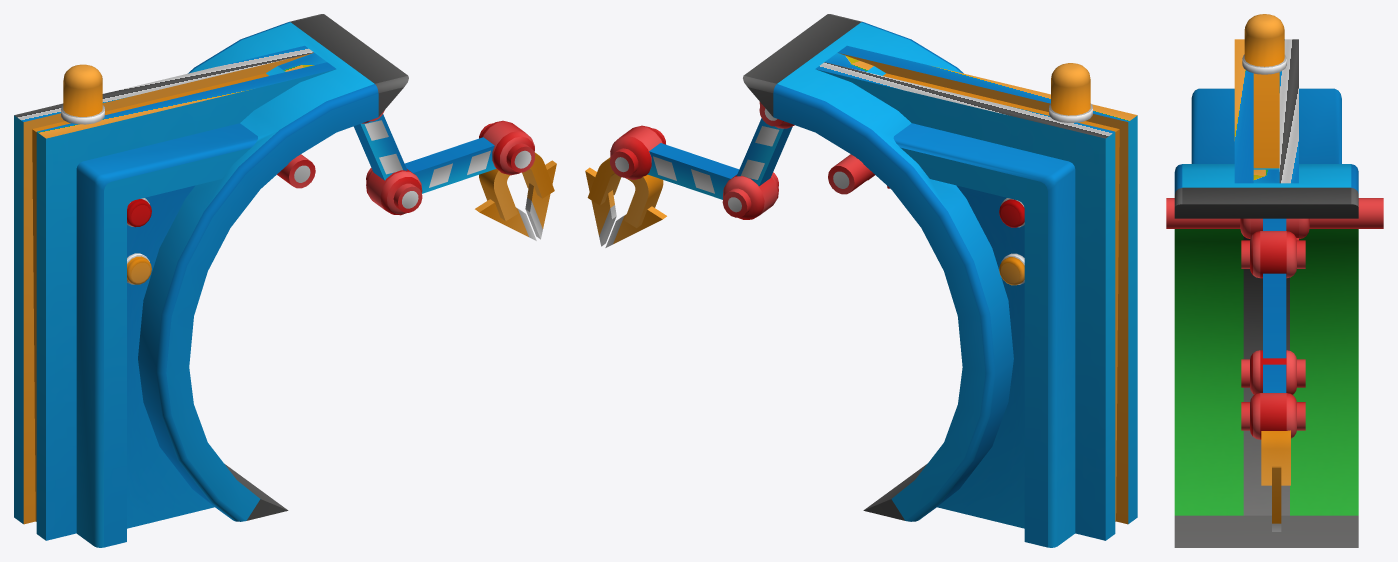
File: robot_arm_new_rig.fbx
The picture shows the model from 3 angles, left to right: view 1: azimuth 30°, elevation 25°; view 2: azimuth 150°, elevation 25°; view 3: azimuth 270°, elevation 25°; orthographic projection.
Parts seen in each view (by area): view 1: baby_boss_yeni_robot_kol, Bone003, baby_boss_yeni_robot_kol_yuvarlak1, baby_boss_yeni_robot_kol_kutu, Bone002, baby_boss_yeni_robot_kol_kıskac1, bone_end_controller, baby_boss_yeni_robot_kol_kıskac2; view 2: baby_boss_yeni_robot_kol, Bone003, baby_boss_yeni_robot_kol_yuvarlak1, baby_boss_yeni_robot_kol_kutu, Bone002, bone_end_controller, baby_boss_yeni_robot_kol_kıskac1, baby_boss_yeni_robot_kol_kıskac2; view 3: baby_boss_yeni_robot_kol, baby_boss_yeni_robot_kol_yuvarlak1, bone_end_controller, Bone001, baby_boss_yeni_robot_kol_kutu, Bone003, Bone002, baby_boss_yeni_robot_kol_kıskac1.
Part boxes in pixels (bbox=[...]): baby_boss_yeni_robot_kol: bbox=[14, 14, 408, 547]; Bone003: bbox=[366, 137, 496, 215]; baby_boss_yeni_robot_kol_yuvarlak1: bbox=[479, 120, 554, 221]; baby_boss_yeni_robot_kol_kutu: bbox=[61, 64, 151, 284]; Bone002: bbox=[353, 114, 407, 180]; baby_boss_yeni_robot_kol_kıskac1: bbox=[525, 160, 556, 239]; bone_end_controller: bbox=[277, 154, 315, 188]; baby_boss_yeni_robot_kol_kıskac2: bbox=[475, 199, 536, 240]; baby_boss_yeni_robot_kol: bbox=[743, 14, 1137, 547]; Bone003: bbox=[647, 143, 778, 219]; baby_boss_yeni_robot_kol_yuvarlak1: bbox=[587, 125, 665, 228]; baby_boss_yeni_robot_kol_kutu: bbox=[999, 63, 1092, 285]; Bone002: bbox=[736, 118, 792, 186]; bone_end_controller: bbox=[828, 154, 889, 194]; baby_boss_yeni_robot_kol_kıskac1: bbox=[585, 167, 616, 246]; baby_boss_yeni_robot_kol_kıskac2: bbox=[605, 206, 666, 247]; baby_boss_yeni_robot_kol: bbox=[1174, 39, 1358, 547]; baby_boss_yeni_robot_kol_yuvarlak1: bbox=[1241, 393, 1305, 485]; bone_end_controller: bbox=[1166, 198, 1383, 240]; Bone001: bbox=[1241, 218, 1305, 278]; baby_boss_yeni_robot_kol_kutu: bbox=[1242, 14, 1286, 74]; Bone003: bbox=[1241, 350, 1305, 394]; Bone002: bbox=[1263, 273, 1286, 358]; baby_boss_yeni_robot_kol_kıskac1: bbox=[1272, 466, 1281, 531].
Bounding box in the file's own units: 165 × 134 × 58.39.
